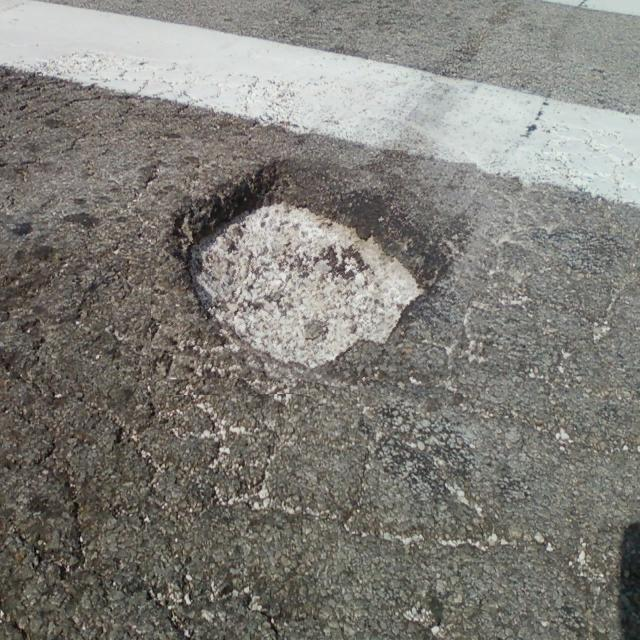Pothole: (151, 150, 487, 395)
